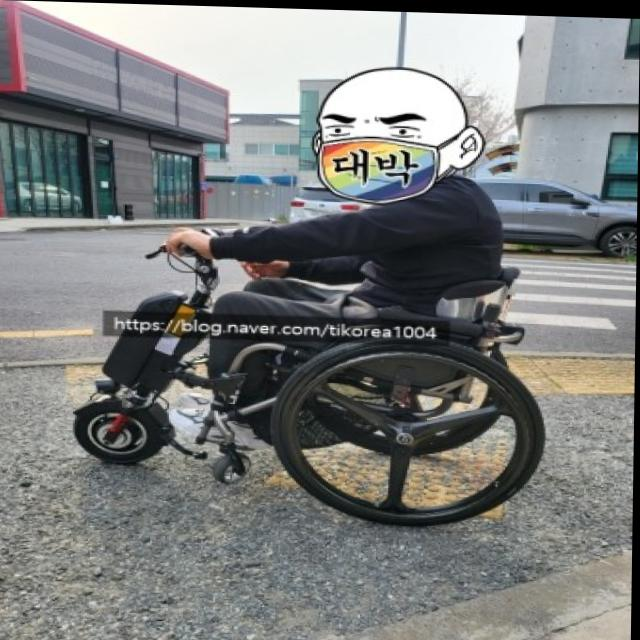wheelchair: (71, 57, 556, 525)
